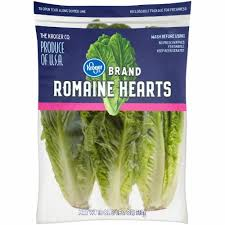Lettuce: (27, 5, 197, 216)
